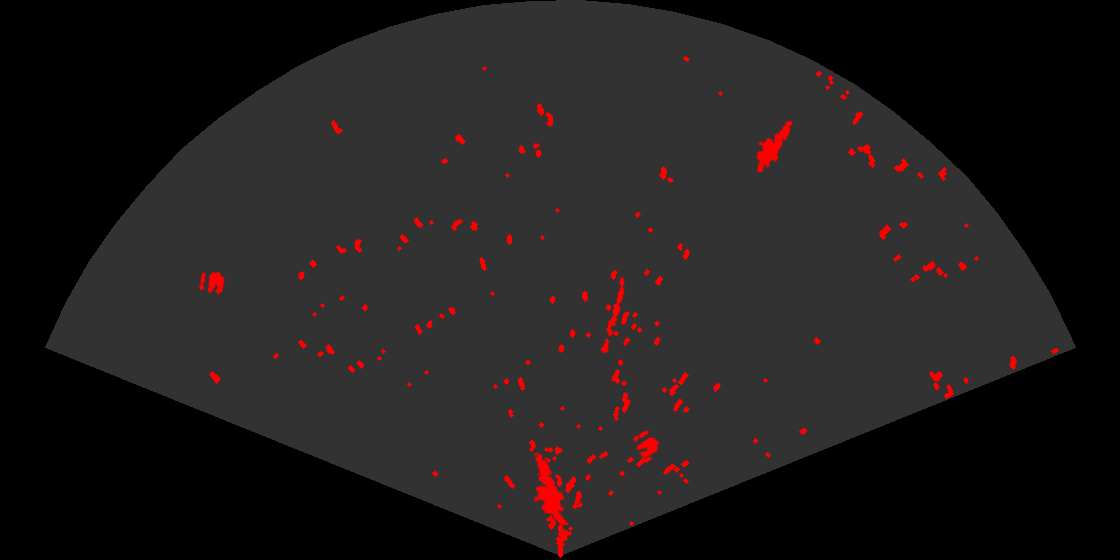ball: (631, 429, 661, 459), (198, 270, 226, 296)
chain: (599, 275, 626, 358)
frogman: (532, 452, 571, 525), (754, 118, 794, 172)
